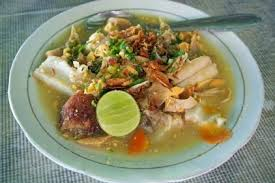soto: (40, 10, 252, 166)
